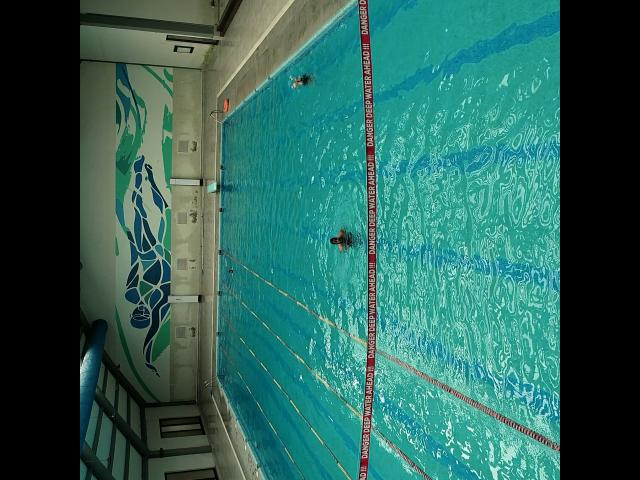swimming: (328, 229, 350, 250), (290, 72, 314, 87), (228, 266, 235, 274)
